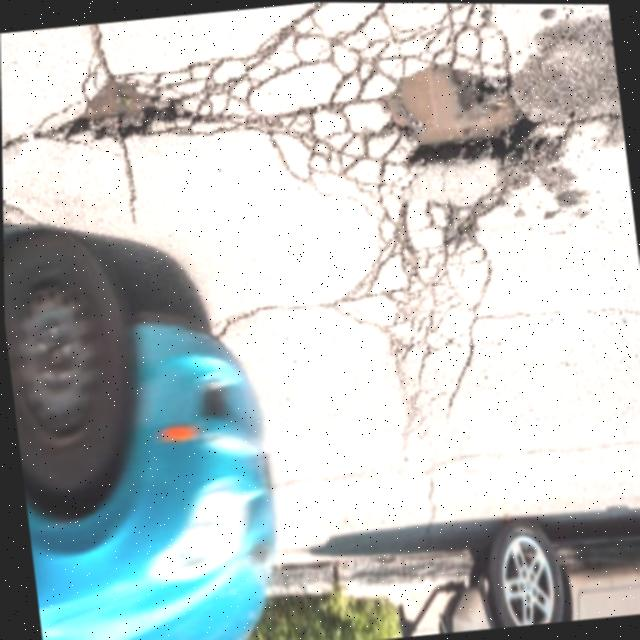Pothole: (378, 45, 546, 195), (44, 52, 190, 161)
